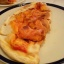pizza: (1, 4, 53, 64)
